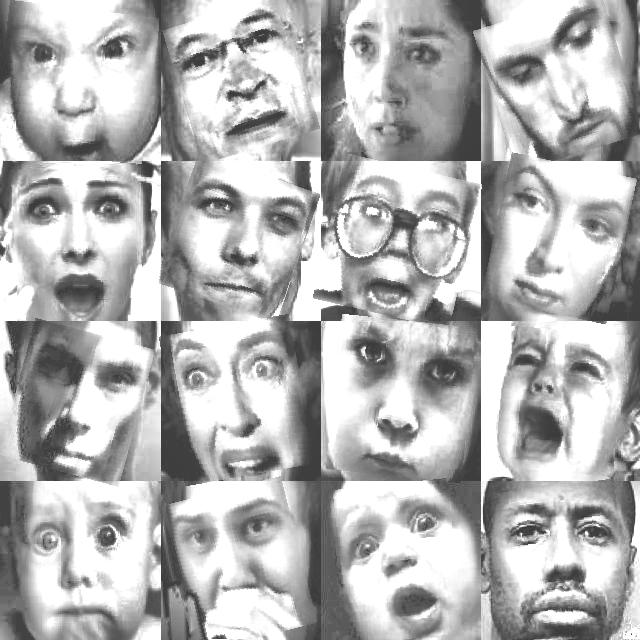angry: (0, 3, 155, 160), (330, 318, 474, 480)
fear: (321, 160, 475, 323), (165, 319, 309, 481), (167, 482, 309, 640), (328, 481, 459, 640), (13, 164, 143, 320), (18, 491, 139, 640)
happy: (164, 160, 311, 314)
neutral: (488, 158, 630, 319), (7, 325, 147, 481), (171, 2, 312, 156)
sad: (483, 0, 635, 164), (495, 482, 628, 640), (495, 328, 623, 474), (342, 7, 462, 151)
